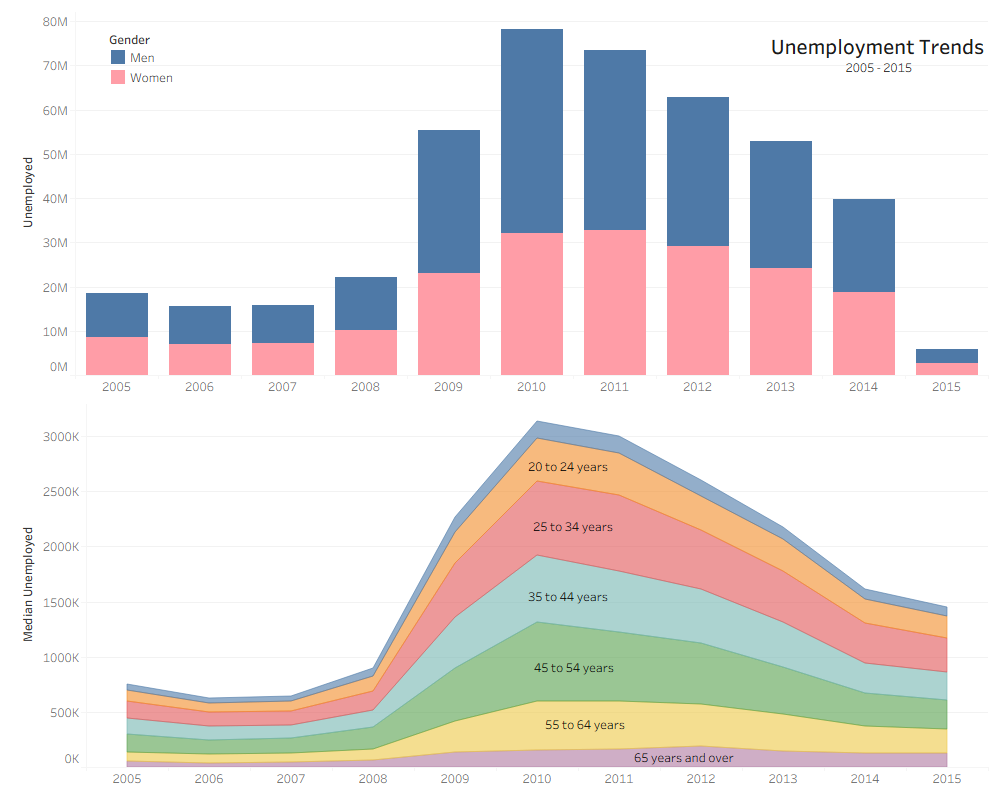

Layout of this report page (visuals, bound fields, positions):
{"tool":"tableau","page":{"name":"Dashboard 1","canvas":[1000,800],"ordinal":0},"visuals":[{"type":"worksheet","title":"Sheet 2","mark":"Bar","rows":["Unemployed"],"cols":["Period"],"box":[8,8,984,392]},{"type":"text","box":[764,14,227,81]},{"type":"legend","title":"Sheet 2","param":"[federated.096q4ha0ppn71p13d2hwl14uebs6].[none:Gender:nk]","box":[108,29,140,58]},{"type":"worksheet","title":"Sheet 1","mark":"Area","rows":["Unemployed"],"cols":["Period"],"box":[8,400,984,392]}]}

Visuals, with their boxes in screenshot pixels (x1, y1, x2, y2), scaled from the page's 1000x800 canvas onto the 1000x800 screenshot:
"Sheet 2" worksheet (Bar marks): box(8, 8, 992, 400)
text: box(764, 14, 991, 95)
"Sheet 2" legend: box(108, 29, 248, 87)
"Sheet 1" worksheet (Area marks): box(8, 400, 992, 792)
